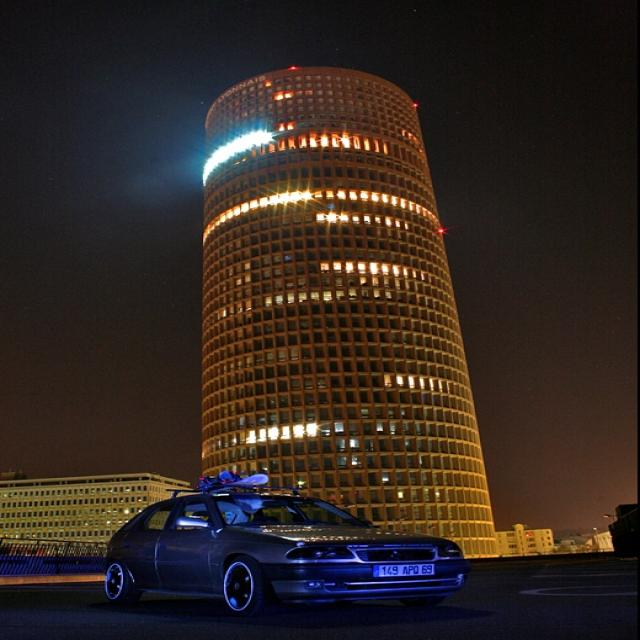Car: (87, 441, 539, 640)
